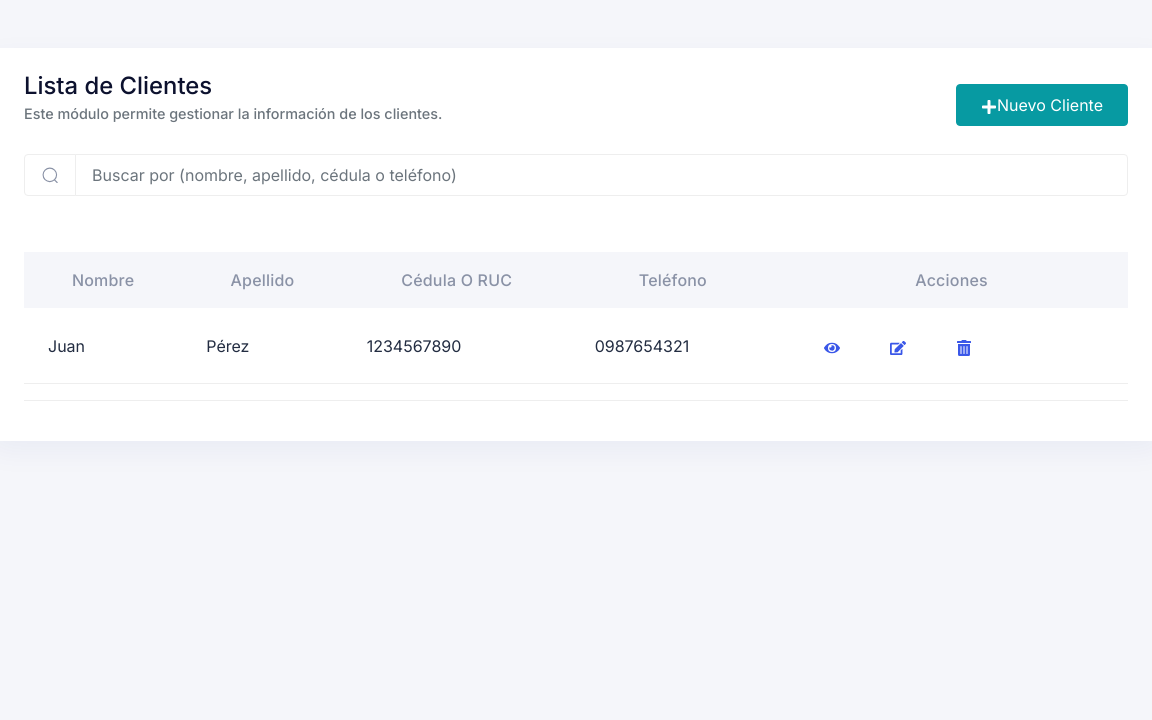
Scenario: ClientsTable - Eliminar Cliente › debe eliminar un cliente cuando se confirma en el modal
The image size is (1152, 720).
Hacer clic en el primer botón de eliminar
Click the button named "Delete". click: coordinates (964, 346)
box: [931,325,997,367]
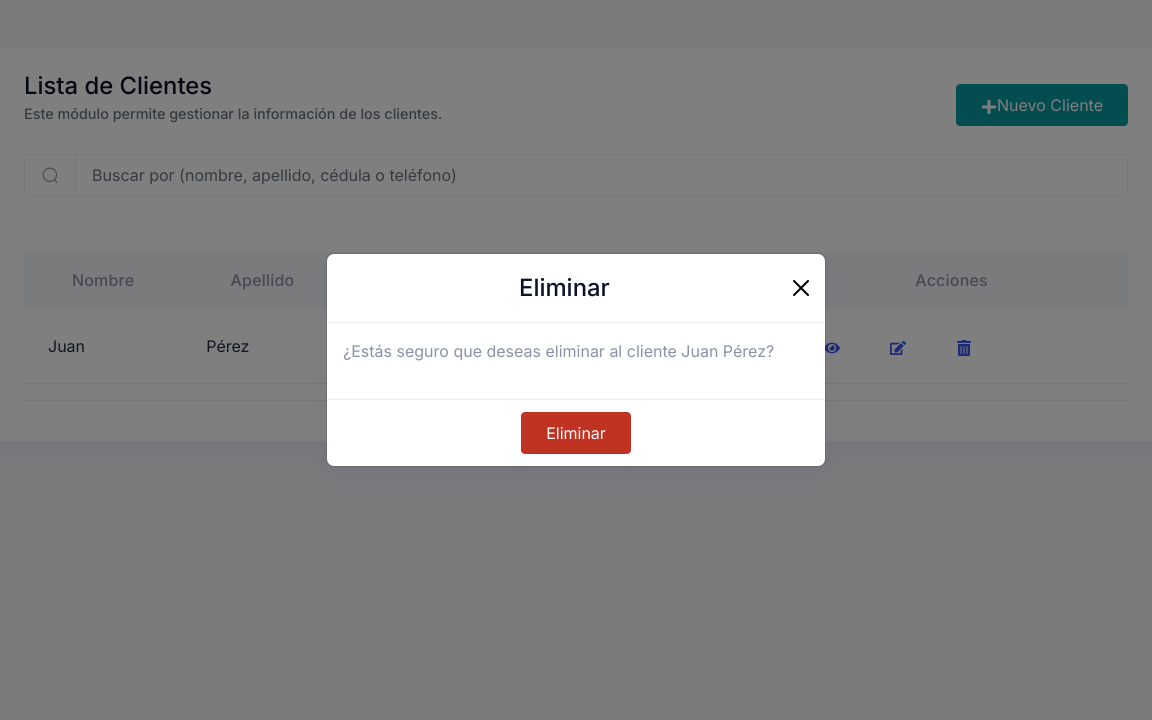
Now the text "¿Estás seguro que deseas eliminar al cliente Juan Pérez?" is shown, box [343,339,774,363]
Hacer clic en el botón "Eliminar" del modal
Click the button "Eliminar". click: coordinates (576, 433)
box: [521,412,631,454]
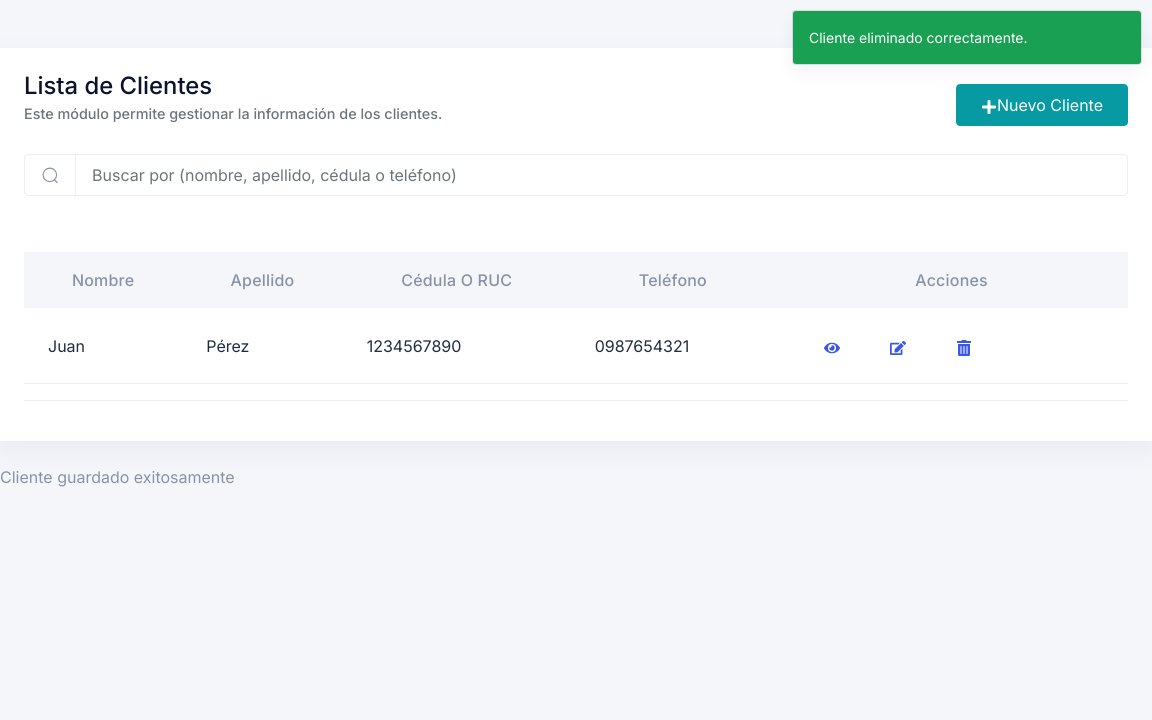
Now the text "Cliente eliminado correctamente." is shown, box [809,29,1028,46]
